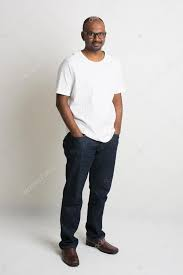Indian_Male: (81, 17, 105, 58)
